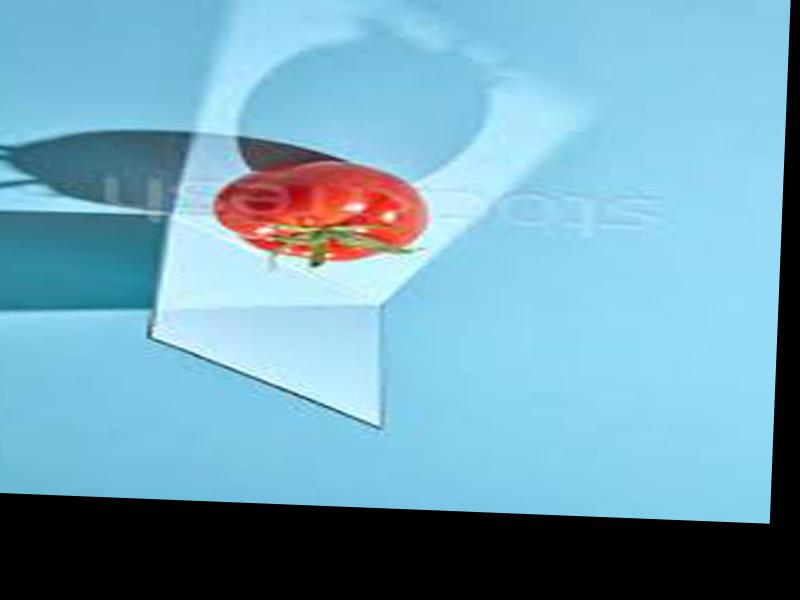Tomato: (211, 156, 429, 264)
